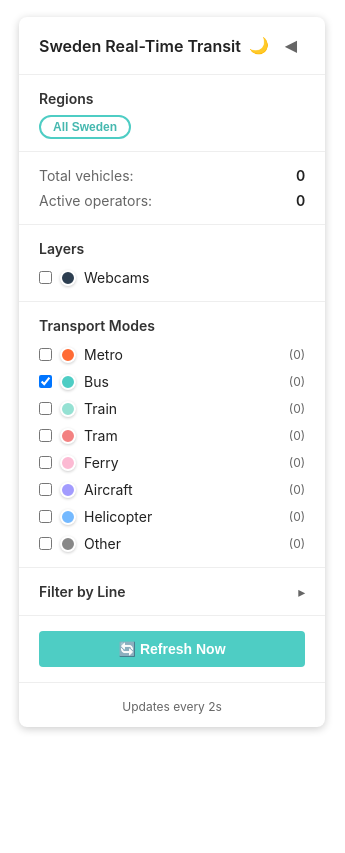
Test case: ControlPanel — Favourite star control › renders a star control on each available-line chip
Click the heading "Filter by Line" at (82, 592), box x1=39 y1=583 x2=126 y2=600
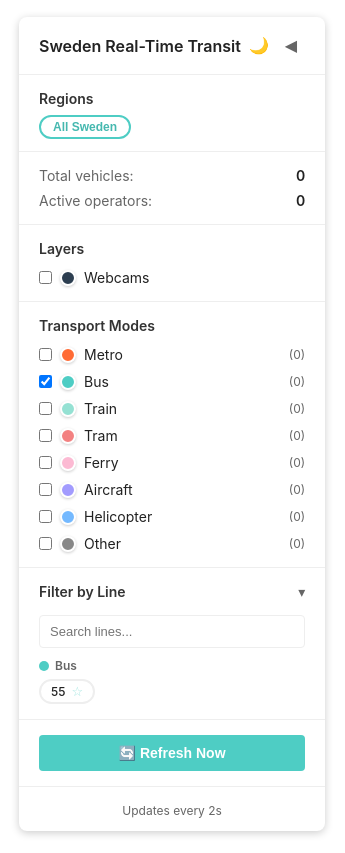
Result: the button named "favourite line 55" is shown at x1=72 y1=685 x2=83 y2=698
